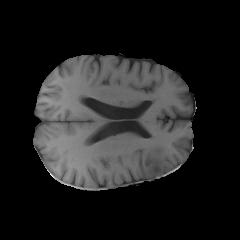glioma: (128, 127, 183, 178)
